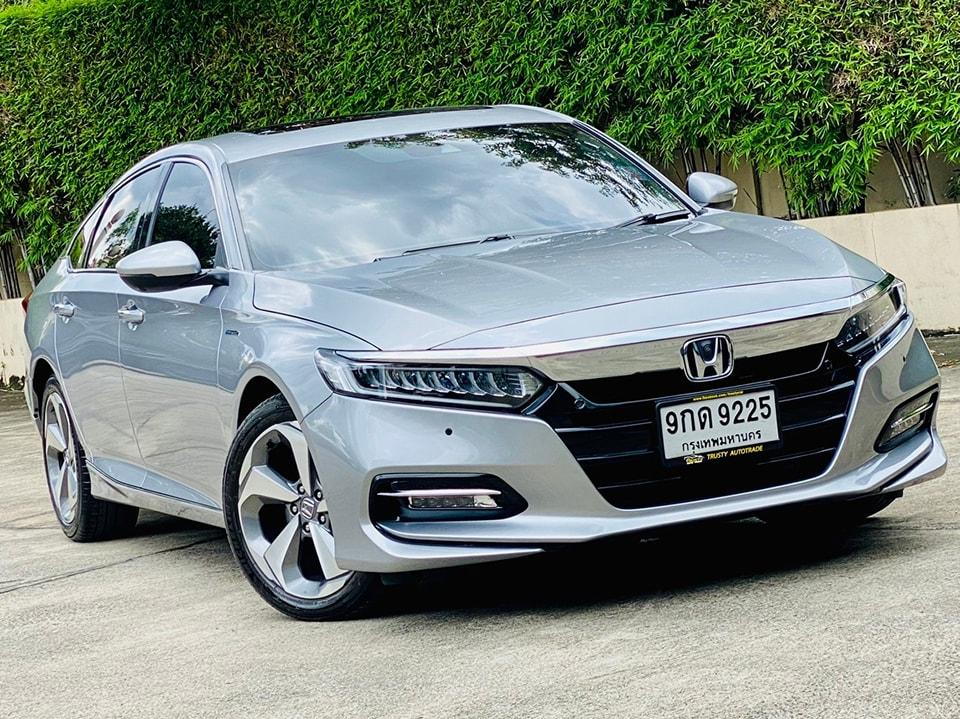license-plate: (634, 378, 796, 473)
